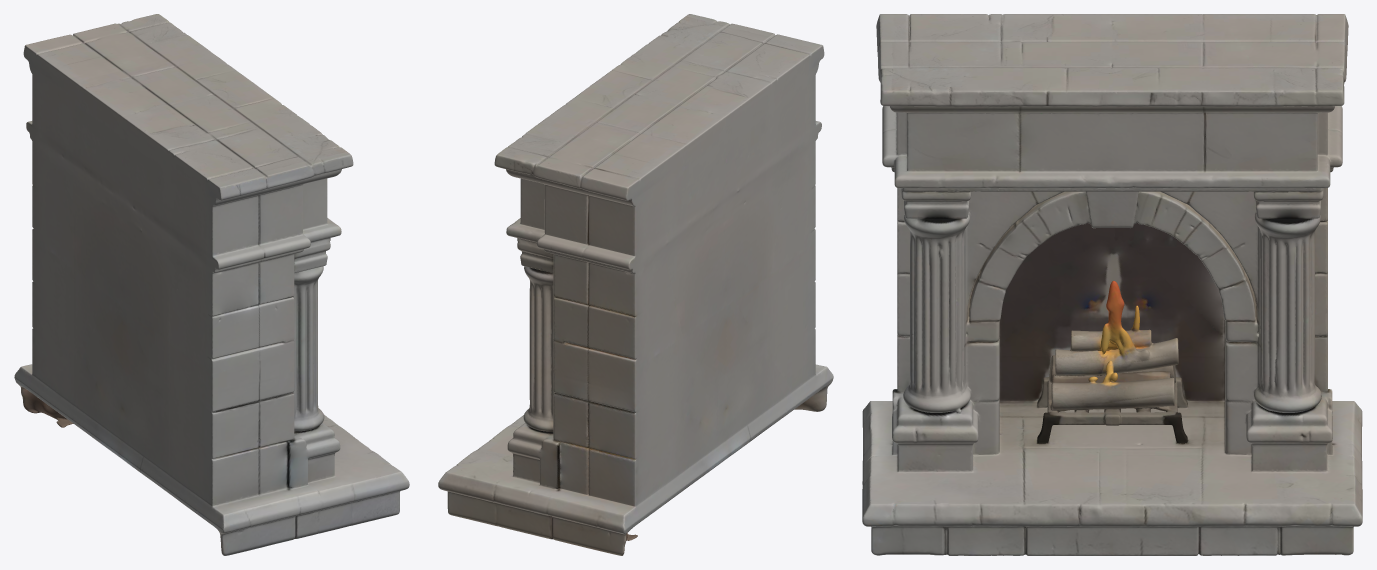
Rendered from detailed_realistic_model_stone_01.glb.
3 views of the same model, side by side, from view 1: azimuth 30°, elevation 25°; view 2: azimuth 150°, elevation 25°; view 3: azimuth 270°, elevation 25° (orthographic). The views are drawn at different scales.
Parts seen in each view (by area): view 1: tripo_node_fed77d6b-60da-4bcc-8a3c-29a7fd3b854f; view 2: tripo_node_fed77d6b-60da-4bcc-8a3c-29a7fd3b854f; view 3: tripo_node_fed77d6b-60da-4bcc-8a3c-29a7fd3b854f.
Boxes of the visible parts, box(x1,y1,x2,y2) form: tripo_node_fed77d6b-60da-4bcc-8a3c-29a7fd3b854f: box(14, 14, 409, 555); tripo_node_fed77d6b-60da-4bcc-8a3c-29a7fd3b854f: box(438, 14, 833, 555); tripo_node_fed77d6b-60da-4bcc-8a3c-29a7fd3b854f: box(862, 14, 1362, 555).
Bounding box in the file's own units: 0.516 × 0.9715 × 1.
Materials: 1 (1 with a texture image).
